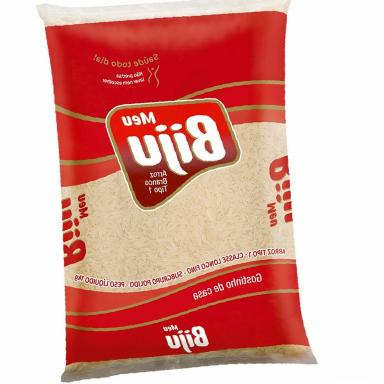rice package: (39, 0, 315, 381)
